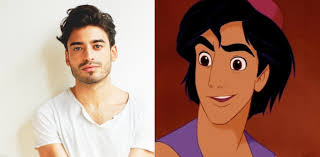middle_eastern_male: (64, 13, 116, 85)
